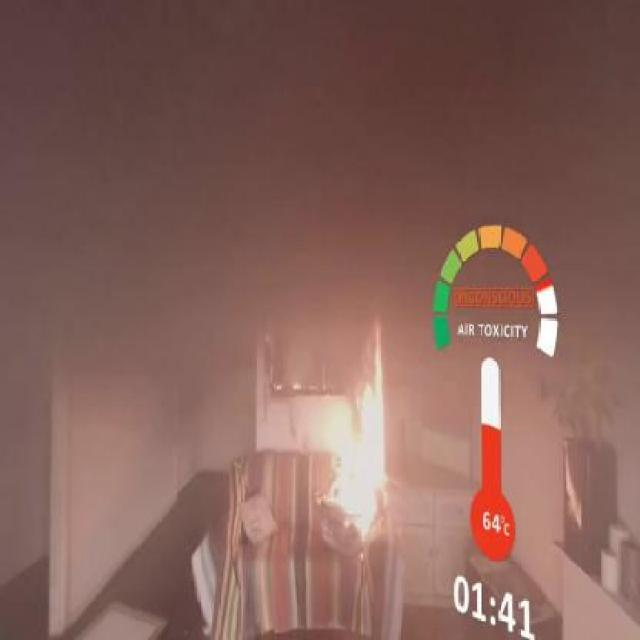smoke: (101, 44, 454, 404)
